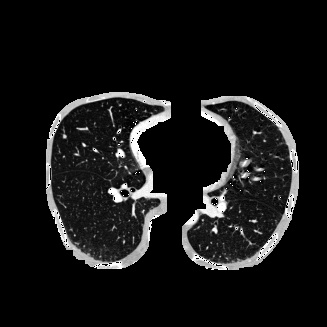PN: (62, 134, 66, 138)
